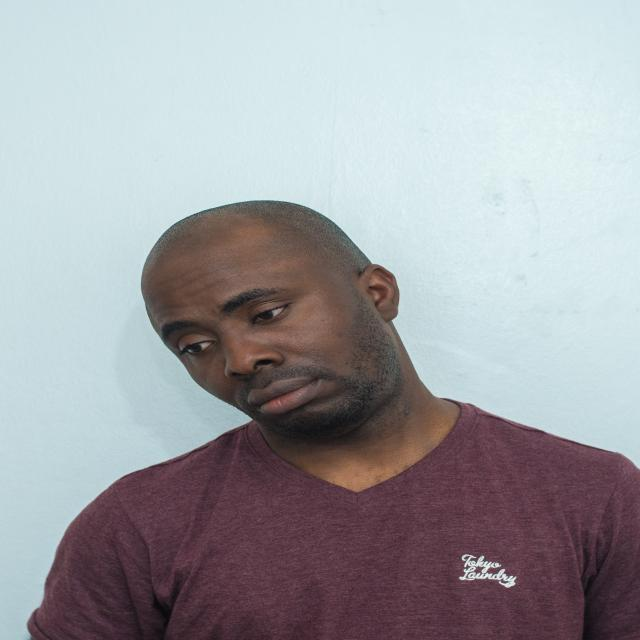sad: (123, 191, 411, 440)
